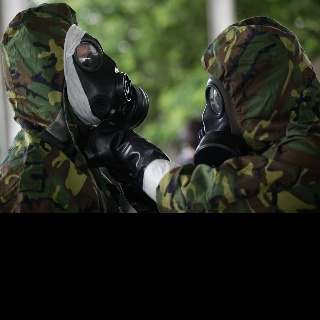without_mask: (75, 43, 95, 67)
